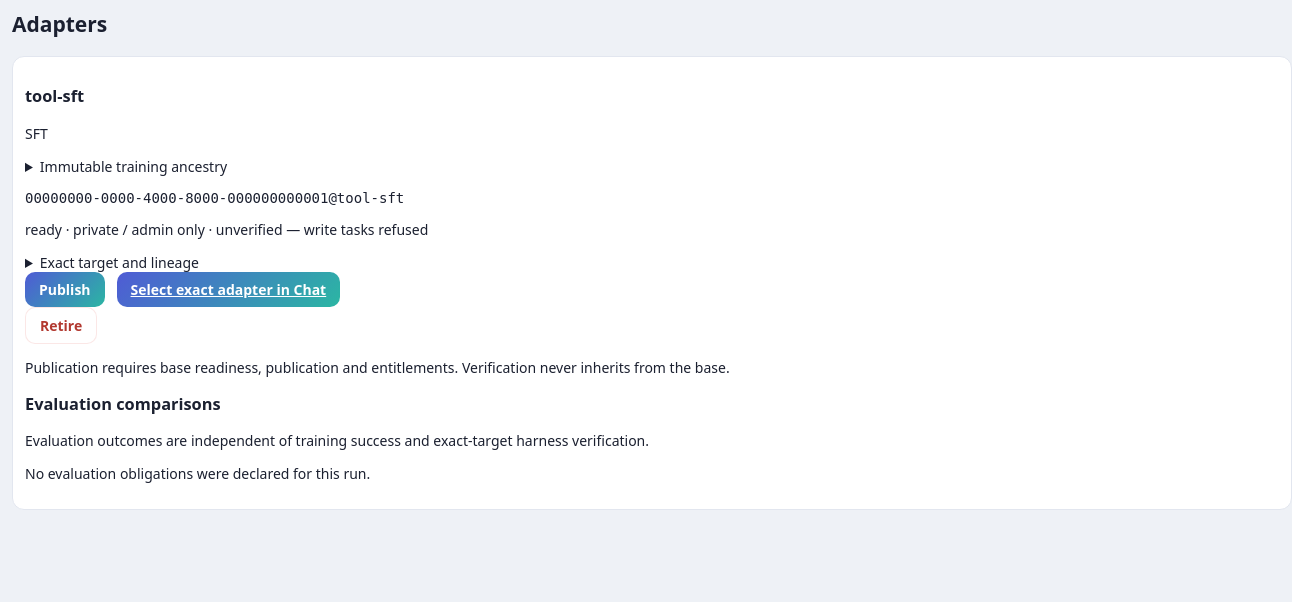
it: publication carries current version; a base-publication refusal is shown instead of optimistic success
The width and height of the screenshot is (1292, 602).
Click the button "Publish" at {"x": 65, "y": 289}, box [25, 272, 105, 307]
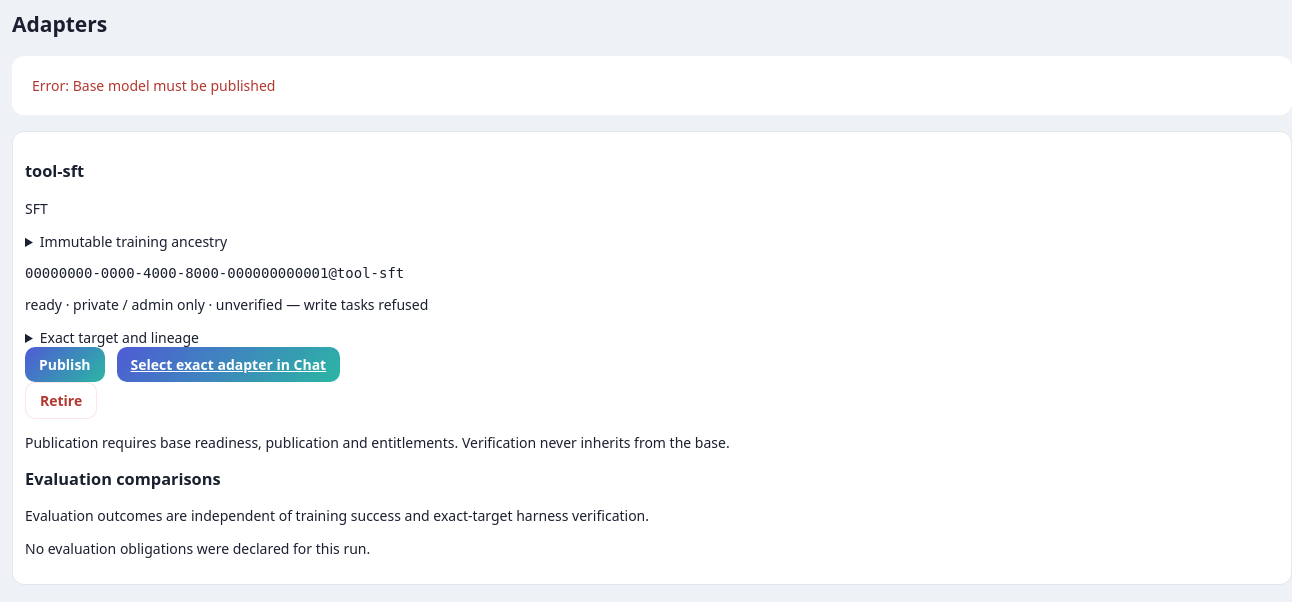
Check: the message shows "Base model must be published", box [32, 76, 276, 95]
